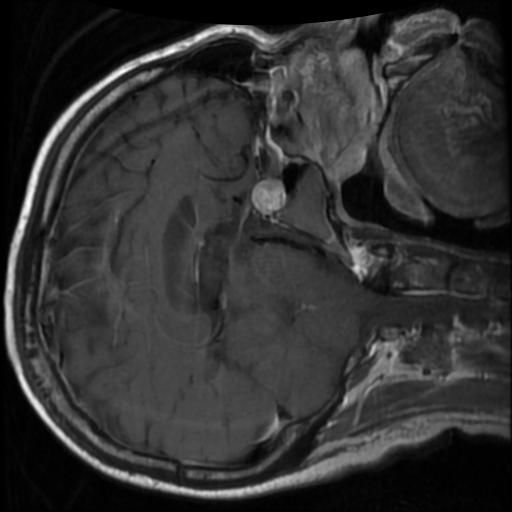pituitary tumour: (250, 178, 287, 214)
